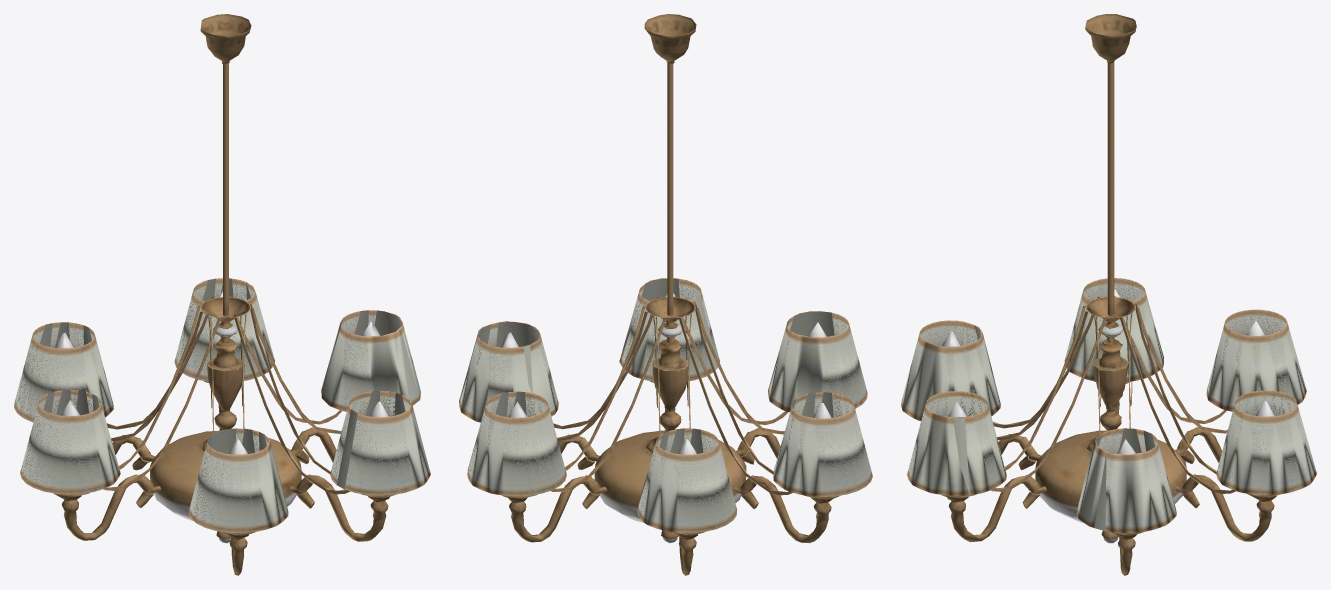
Rendered from chandelier-02.lite.8735c785.glb.
3 views of the same model, side by side, from view 1: azimuth 30°, elevation 25°; view 2: azimuth 150°, elevation 25°; view 3: azimuth 270°, elevation 25° (orthographic).
Parts seen in each view (by area): view 1: model; view 2: model; view 3: model.
Boxes of the visible parts, left/top/right/bottom form: model: left=14, top=14, right=430, bottom=575; model: left=459, top=14, right=872, bottom=575; model: left=901, top=14, right=1316, bottom=575.
Size of the model in its own units: 0.6763 by 0.8481 by 0.6175.
2 materials, 1 textured.
